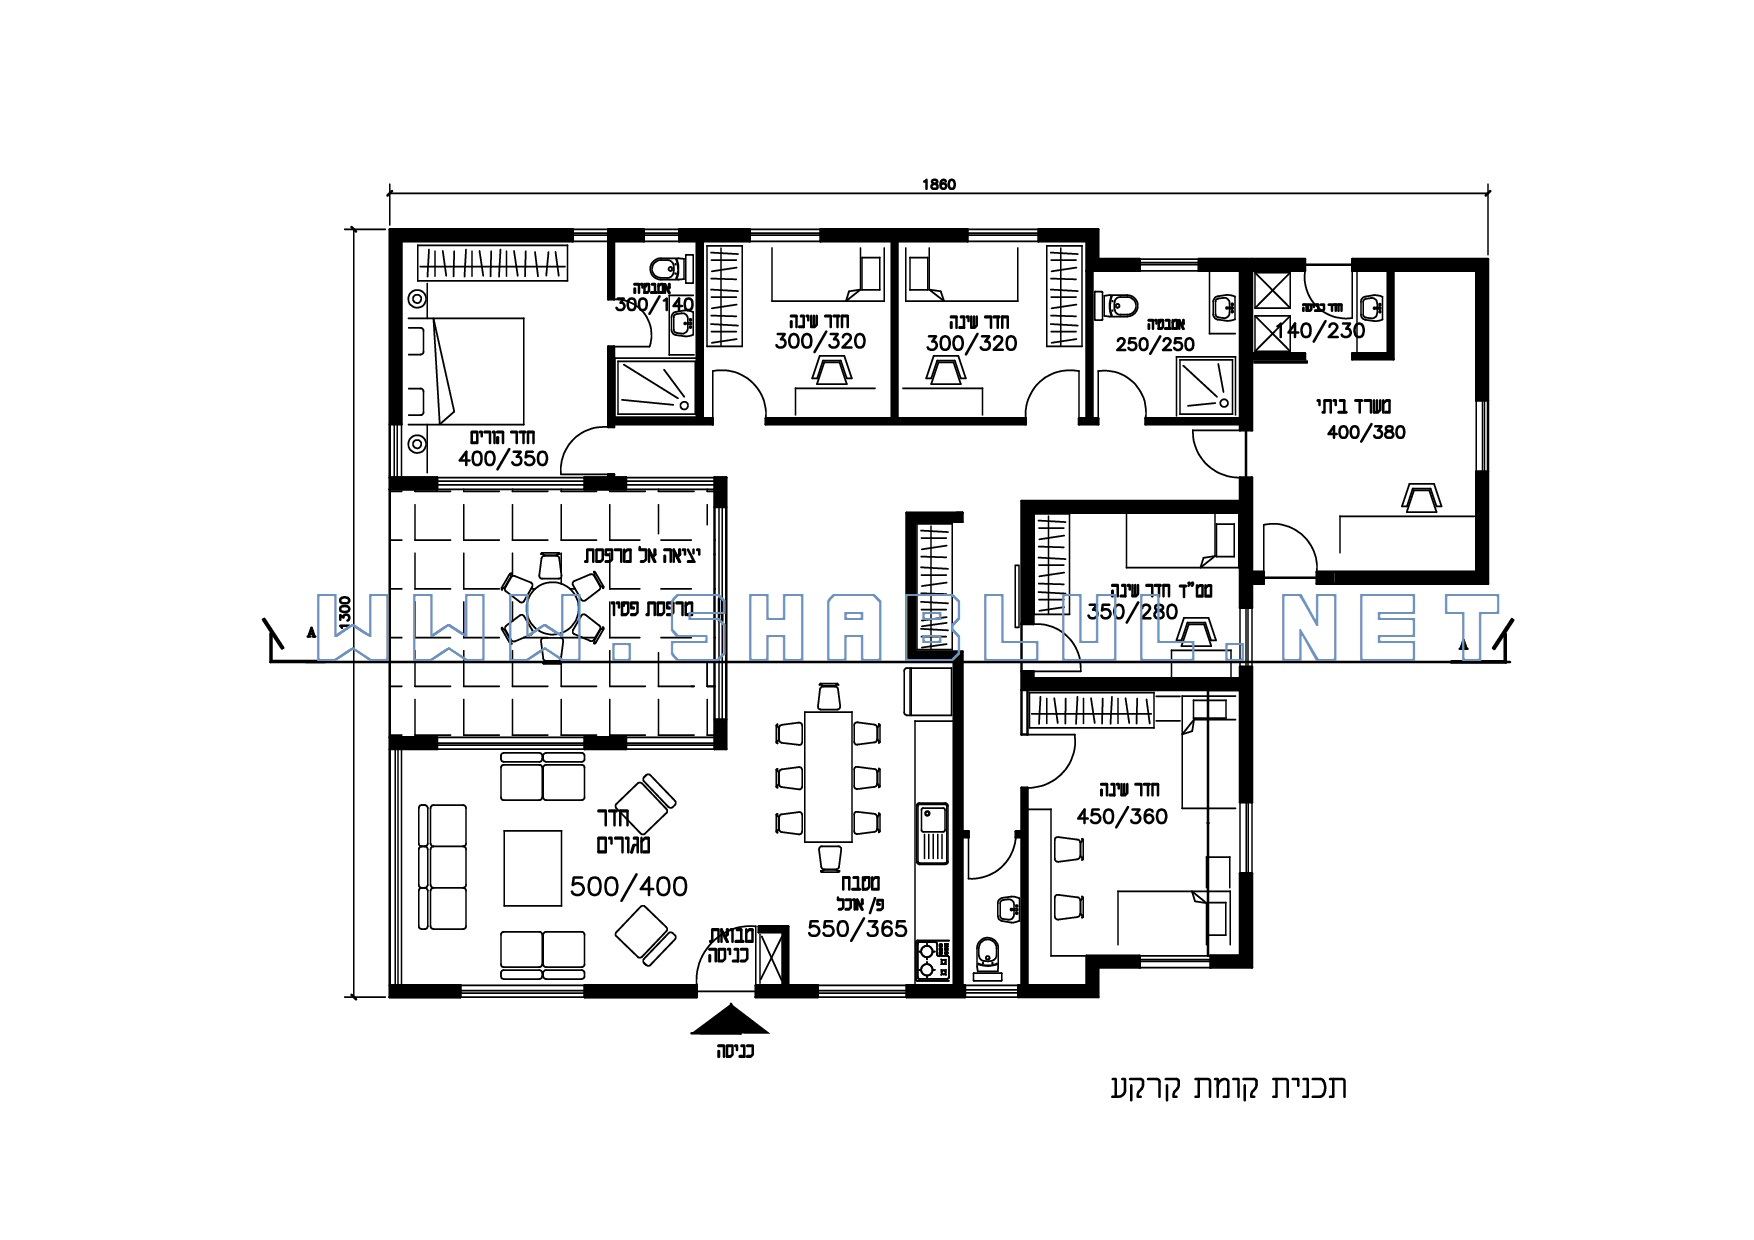door: (709, 362, 772, 416), (1021, 364, 1084, 417), (1259, 517, 1322, 570), (1037, 621, 1100, 675), (1029, 731, 1084, 792), (1182, 427, 1237, 480), (964, 835, 1019, 884), (557, 424, 607, 476), (1095, 366, 1147, 413)
wall: (388, 229, 403, 427), (1315, 570, 1474, 586), (403, 227, 574, 242), (1033, 501, 1237, 513), (820, 228, 968, 243), (764, 417, 1025, 425), (1237, 670, 1253, 800), (1474, 272, 1490, 400), (1351, 258, 1490, 272), (905, 513, 917, 662), (1239, 476, 1252, 605), (1475, 471, 1490, 585), (1020, 501, 1033, 623), (1198, 258, 1306, 272)
window: (460, 982, 584, 1000), (819, 982, 906, 998), (750, 227, 819, 244), (969, 227, 1037, 244), (1474, 401, 1490, 472), (1237, 607, 1255, 671), (1141, 954, 1210, 969), (1239, 800, 1252, 872), (1141, 258, 1200, 274), (965, 982, 1019, 998), (574, 229, 609, 243), (643, 229, 678, 243)
